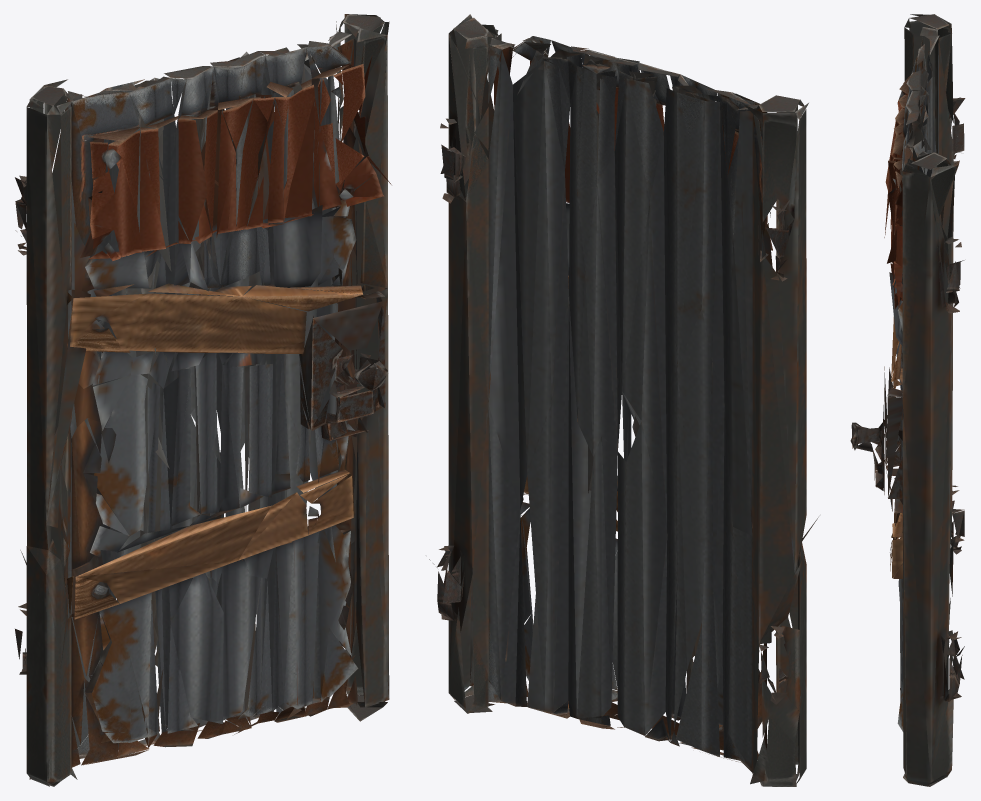
Rendered from door_scrap_lod2.glb.
The picture shows the model from 3 angles, left to right: view 1: azimuth 30°, elevation 25°; view 2: azimuth 150°, elevation 25°; view 3: azimuth 270°, elevation 25°; orthographic projection. The views are drawn at different scales.
Parts seen in each view (by area): view 1: LOD2; view 2: LOD2; view 3: LOD2.
Boxes of the visible parts, x1,y1,x2,y2 form: LOD2: [15, 14, 391, 786]; LOD2: [429, 14, 818, 786]; LOD2: [850, 14, 965, 786].
Bounding box in the file's own units: 0.0424 × 0.0767 × 0.0127.
1 material, 1 textured.
